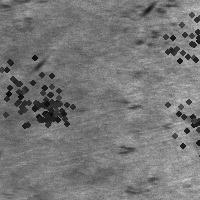rolled-in_scale: (0, 35, 79, 141), (139, 0, 200, 88), (111, 98, 160, 196), (160, 84, 200, 156), (23, 83, 73, 133), (133, 1, 179, 45)
